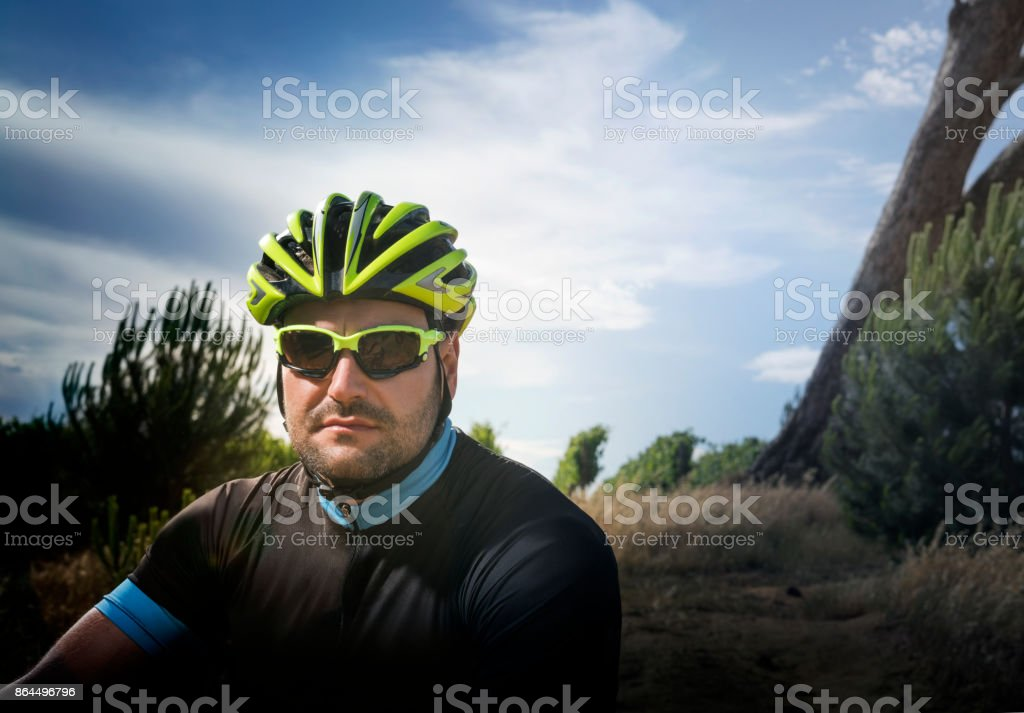helmet: (246, 191, 479, 497)
